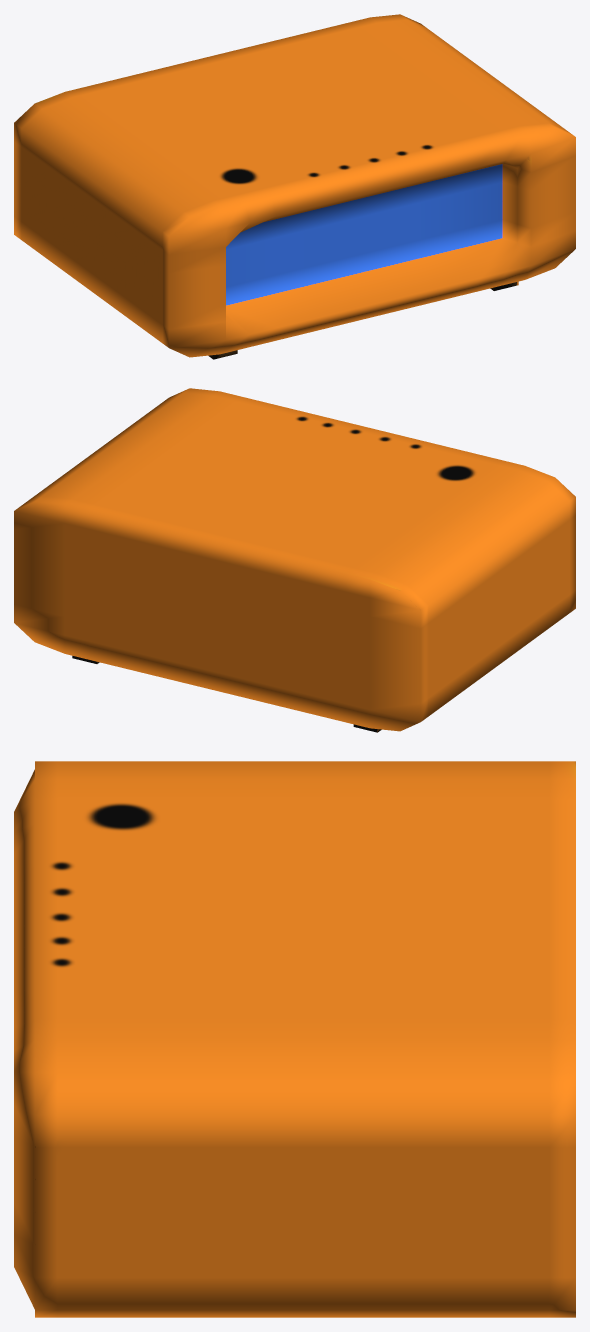
The model's file is clock.fbx.
The picture shows the model from 3 angles, top to bottom: view 1: azimuth 30°, elevation 25°; view 2: azimuth 150°, elevation 25°; view 3: azimuth 270°, elevation 25°; orthographic projection. The views are drawn at different scales.
Visible parts, largest first — view 1: Cube; view 2: Cube; view 3: Cube.
Boxes of the visible parts, bbox=[...] form: Cube: bbox=[14, 14, 575, 359]; Cube: bbox=[14, 388, 575, 732]; Cube: bbox=[14, 761, 575, 1317].
Bounding box in the file's own units: 200 × 74.67 × 137.
